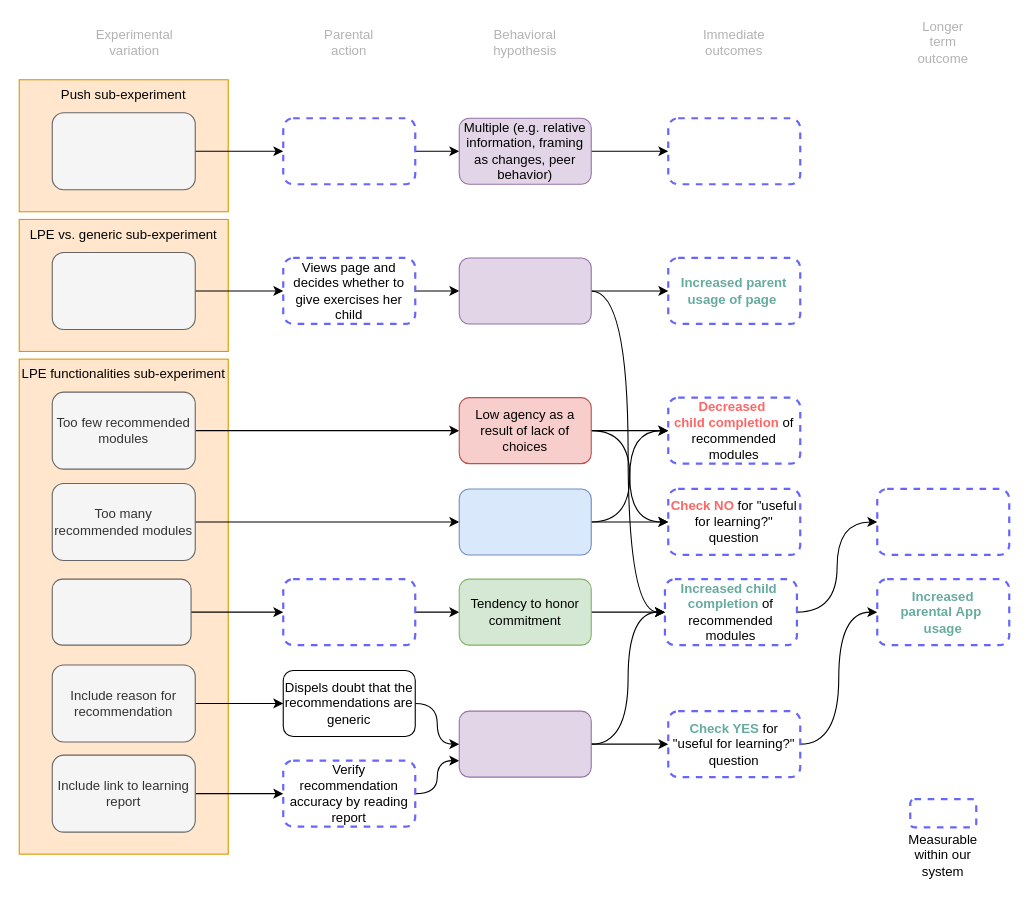
Some shapes in this 1030 by 899 pixel diagram are drawn without their labels. The shapes that lost their labels are listed below. From the top down, each one's centre as x and y in pixels, then its label:
[123,151]: Customized push messages informed by behavioral hypotheses
[349,151]: Opens link (to student performance report)
[734,151]: Increased link opens and more engaging browsing patterns
[123,290]: Prompting parents to use LPE page vs. generic exercise page
[524,290]: High quality targeted exercises are superior to generic exercises
[524,521]: Information overload
[943,521]: Increased child achievement
[121,611]: Include commitment question
[349,612]: Makes commitment by checking yes for "will you commit?" question
[524,743]: Increased trust in recommendation system
